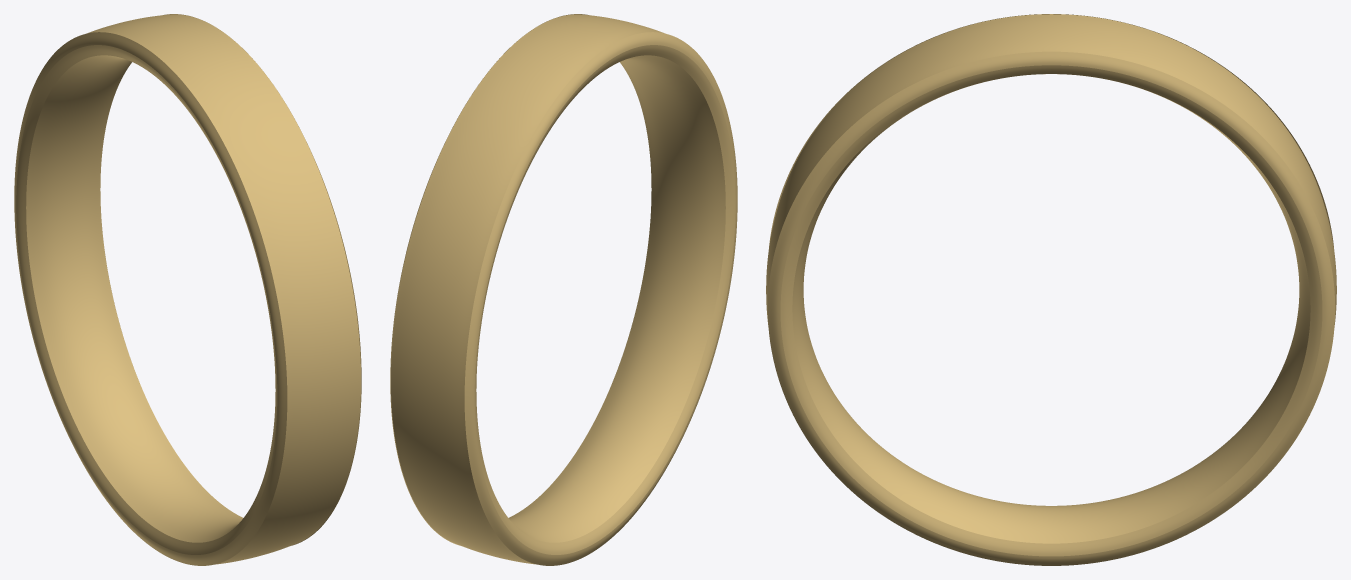
The picture shows the model from 3 angles, left to right: view 1: azimuth 30°, elevation 25°; view 2: azimuth 150°, elevation 25°; view 3: azimuth 270°, elevation 25°; orthographic projection. The views are drawn at different scales.
Parts seen in each view (by area): view 1: P1-Outer, P1-Inner, P1 Sides; view 2: P1-Outer, P1-Inner, P1 Sides; view 3: P1 Sides, P1-Inner, P1-Outer.
Boxes of the visible parts, <box> form: P1-Outer: <box>87,14,360,564</box>; P1-Inner: <box>26,55,242,542</box>; P1 Sides: <box>14,14,361,565</box>; P1-Outer: <box>391,14,664,564</box>; P1-Inner: <box>509,55,725,542</box>; P1 Sides: <box>390,14,737,565</box>; P1 Sides: <box>767,14,1335,565</box>; P1-Inner: <box>792,74,1310,543</box>; P1-Outer: <box>766,14,1336,327</box>.
Size of the model in its own units: 0.3993 by 2.32 by 2.31.
